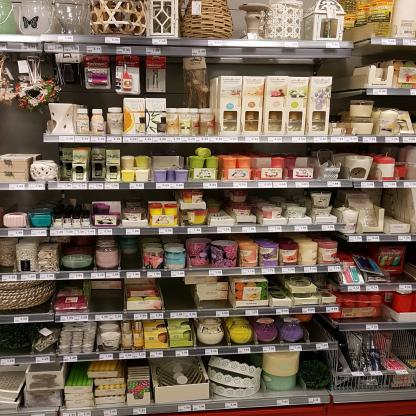Void: (222, 57, 333, 74), (4, 108, 38, 150), (306, 356, 331, 394), (87, 284, 121, 310), (0, 328, 34, 353), (165, 282, 193, 310), (388, 190, 406, 220)
